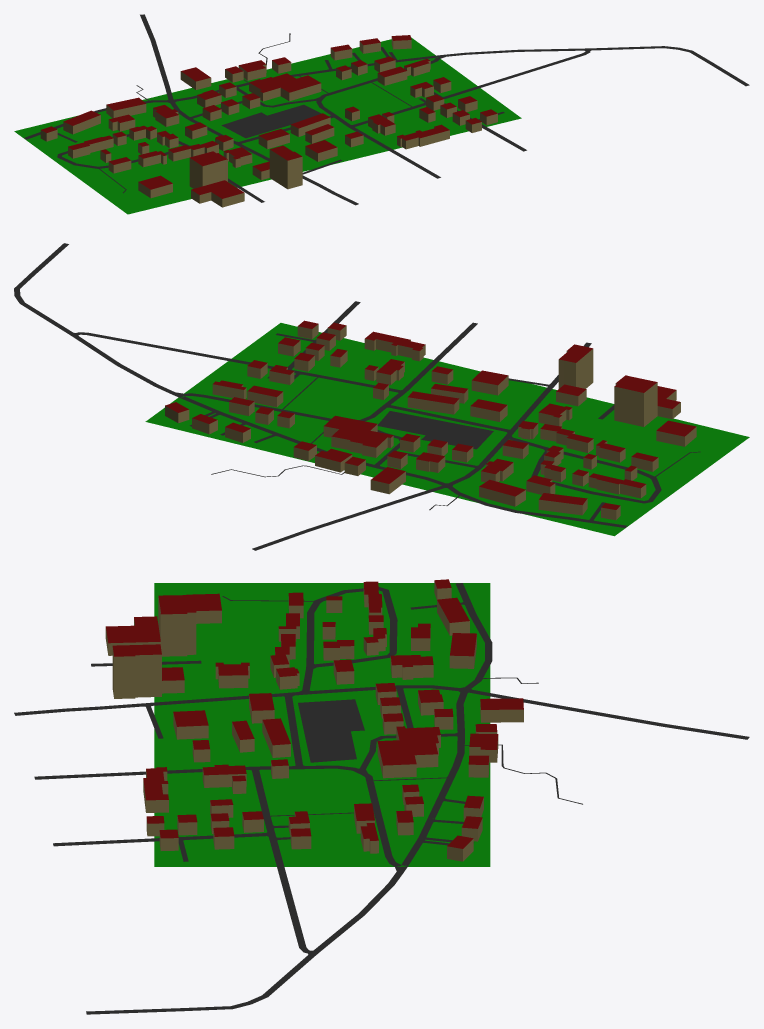
The model's file is recycling.obj.
The picture shows the model from 3 angles, top to bottom: view 1: azimuth 30°, elevation 25°; view 2: azimuth 150°, elevation 25°; view 3: azimuth 270°, elevation 25°; orthographic projection. The views are drawn at different scales.
Visible parts, largest first — view 1: SurfaceArea120, SurfaceArea121, SurfaceParking Marktplatz, Building Feuerwehr Uzwil, Road Bienenstrasse, Building100, Building96, Road Marktstrasse, Building Denner, Building102, Road Ergetenstrasse, Road Schweizergasse (+15 smaller); view 2: SurfaceArea120, SurfaceArea121, Road Bienenstrasse, SurfaceParking Marktplatz, Building96, Building Feuerwehr Uzwil, Road Marktstrasse, Building100, Building102, Road Ergetenstrasse, Road Ringstrasse, Building105 (+16 smaller); view 3: SurfaceArea120, SurfaceArea121, Road Bienenstrasse, SurfaceParking Marktplatz, Building100, Building Feuerwehr Uzwil, Road Marktstrasse, Building96, Road Ringstrasse, Road Ergetenstrasse, Road Schweizergasse, Building Denner (+11 smaller).
Part boxes in pixels (x1,y1,x2,y2): SurfaceArea120: (14,54,455,214); SurfaceArea121: (352,37,521,134); SurfaceParking Marktplatz: (221,104,321,138); Building Feuerwehr Uzwil: (249,73,321,101); Road Bienenstrasse: (24,46,749,139); Building100: (269,145,302,189); Building96: (189,151,227,188); Road Marktstrasse: (140,14,358,205); Building Denner: (191,180,244,207); Building102: (397,124,449,149); Road Ergetenstrasse: (316,58,440,178); Road Schweizergasse: (352,51,590,126); SurfaceArea120: (224,342,749,536); SurfaceArea121: (145,323,358,440); Road Bienenstrasse: (14,243,627,527); SurfaceParking Marktplatz: (377,411,493,449); Building96: (614,375,657,426); Building Feuerwehr Uzwil: (323,415,393,457); Road Marktstrasse: (252,342,591,550); Building100: (558,344,593,388); Building102: (364,331,425,361); Road Ergetenstrasse: (184,322,477,421); Road Ringstrasse: (510,437,661,503); Building105: (588,473,646,498); SurfaceArea120: (154,583,490,819); SurfaceArea121: (154,819,490,866); Road Bienenstrasse: (86,583,492,1014); SurfaceParking Marktplatz: (298,699,364,762); Building100: (112,644,161,698); Building Feuerwehr Uzwil: (377,726,440,778); Road Marktstrasse: (14,685,749,739); Building96: (158,595,196,656); Road Ringstrasse: (302,587,397,690); Road Ergetenstrasse: (34,765,400,866); Road Schweizergasse: (252,770,310,953); Building Denner: (105,616,160,655).
Size of the model in its own units: 547 by 25 by 394.
